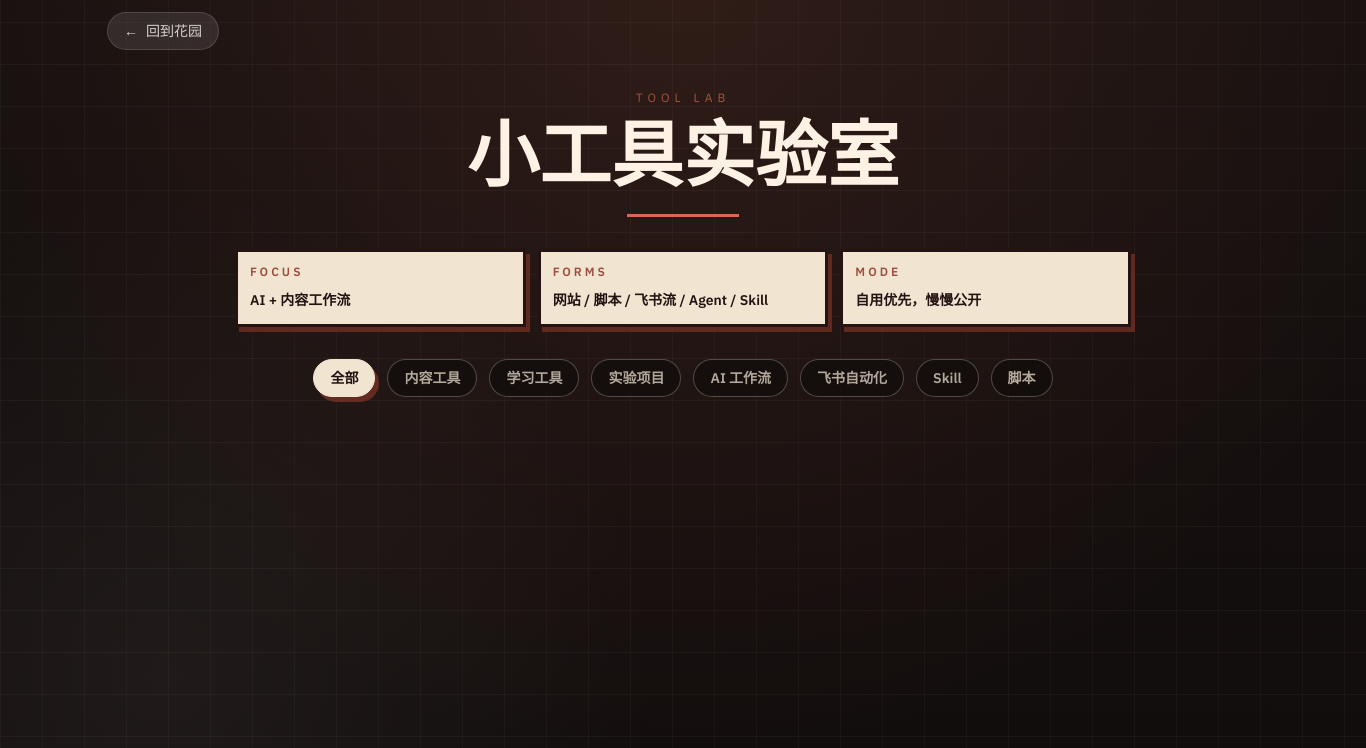
Scenario: ToolsPage › shows archived ShadowPlay under experiment projects with GitHub only
Click the button "实验项目" at (636, 378), box left=592, top=359, right=682, bottom=397
(page scrolled)
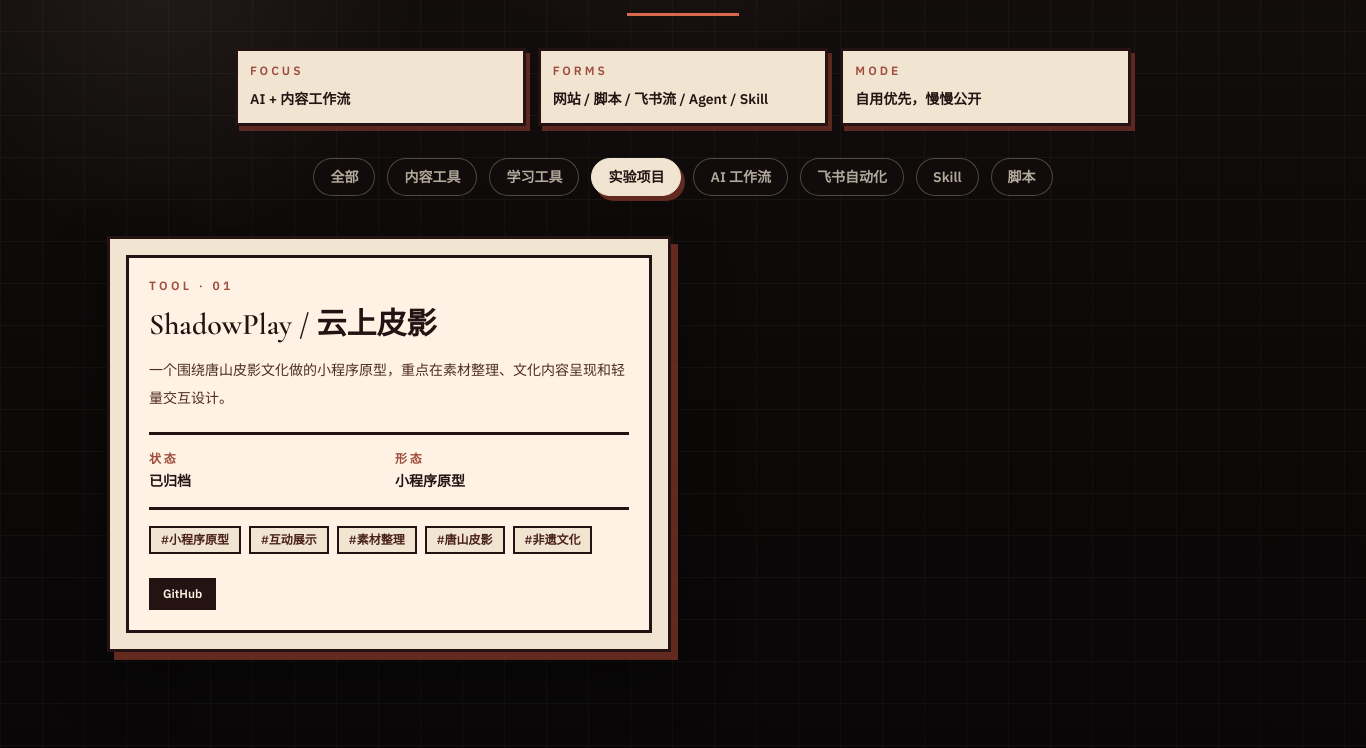
Check: the text "一个围绕唐山皮影文化做的小程序原型，重点在素材整理、文化内容呈现和轻量交互设计。" is shown, box left=149, top=356, right=629, bottom=412
Check: the text "已归档" is shown, box left=149, top=472, right=191, bottom=490
Check: the text "小程序原型" is shown, box left=395, top=472, right=465, bottom=490
